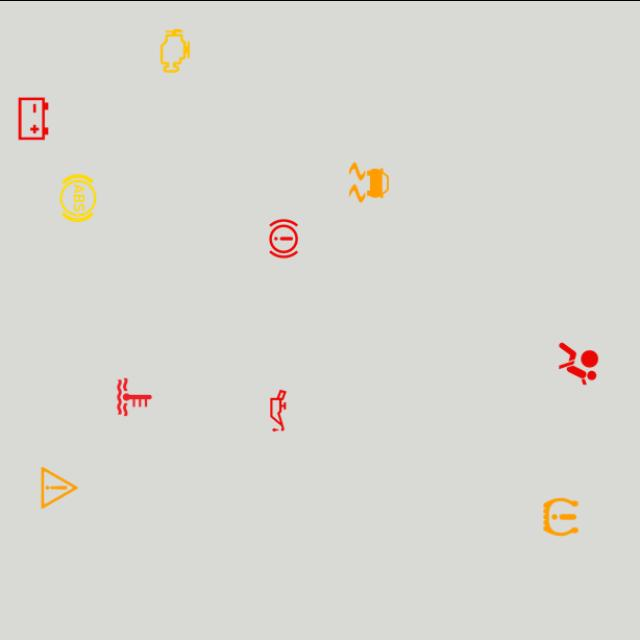Anti Lock Braking System: (52, 171, 104, 223)
Braking System Issue: (258, 212, 310, 264)
Charging System Issue: (8, 92, 60, 144)
Check Engine: (149, 24, 201, 76)
Electronic Stability Problem -ESP-: (343, 156, 395, 208)
Engine Overheating Warning Light: (108, 370, 160, 422)
Low Engine Oil Warning Light: (252, 384, 304, 436)
Low Tire Pressure Warning Light: (535, 490, 587, 542)
Master warning light: (34, 461, 86, 513)
SRS-Airbag: (552, 336, 604, 388)
